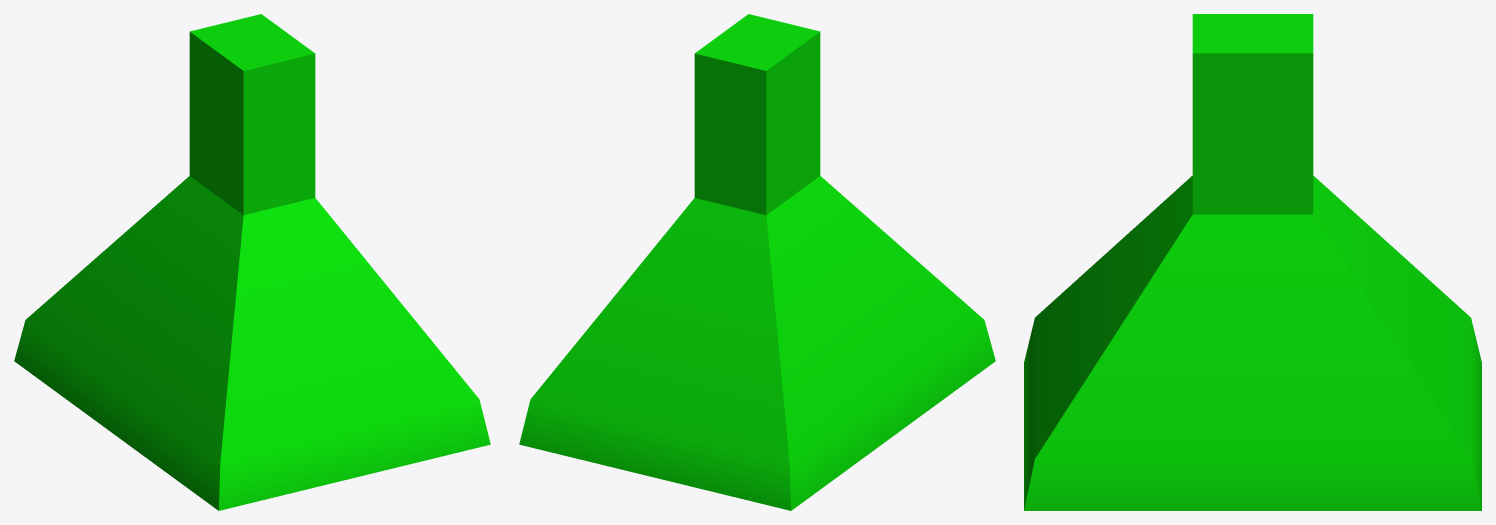
File: TestTube.fbx
3 renders of one model, left to right at view 1: azimuth 30°, elevation 25°; view 2: azimuth 150°, elevation 25°; view 3: azimuth 270°, elevation 25°, orthographic. The views are drawn at different scales.
Visible parts, largest first — view 1: pCube9; view 2: pCube9; view 3: pCube9.
Boxes of the visible parts, x1,y1,x2,y2 form: pCube9: [14, 14, 490, 510]; pCube9: [519, 14, 995, 510]; pCube9: [1024, 14, 1481, 510].
Size of the model in its own units: 47.87 by 60.59 by 62.37.
